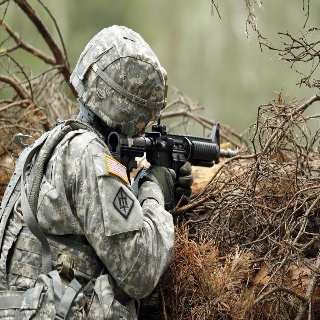rifle: (105, 115, 240, 181)
